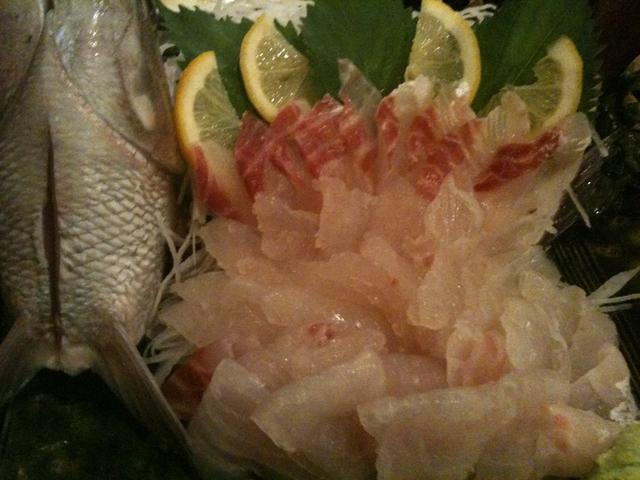fish: (6, 5, 200, 450)
